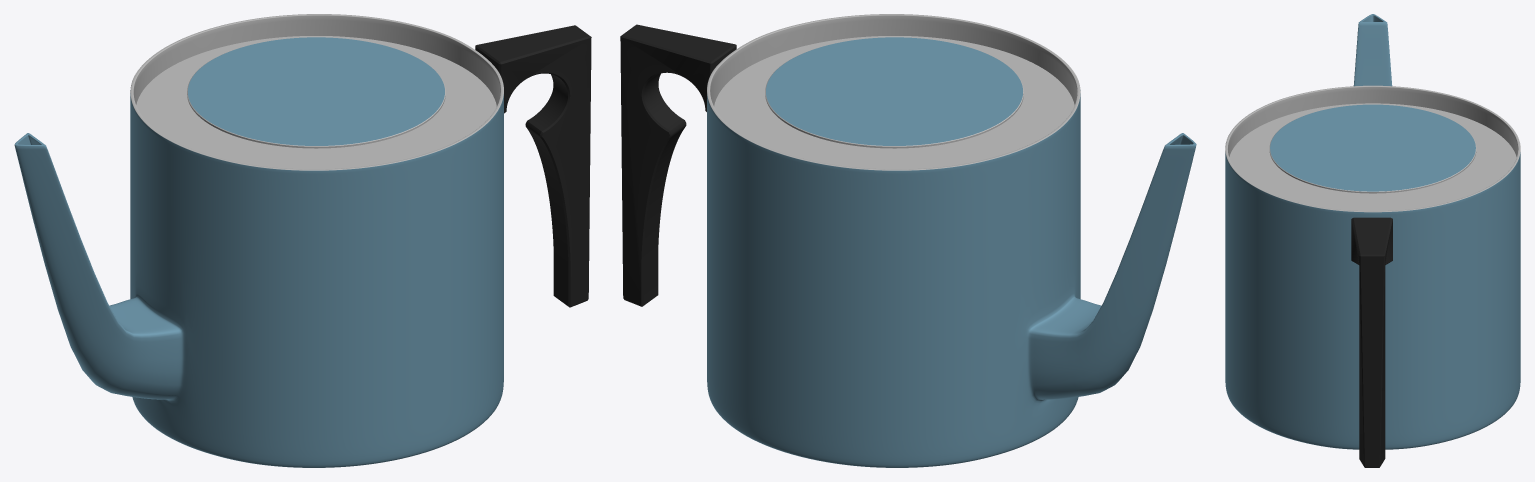
File: cgt_Accessory_150_001.glb
3 renders of one model, left to right at view 1: azimuth 30°, elevation 25°; view 2: azimuth 150°, elevation 25°; view 3: azimuth 270°, elevation 25°, orthographic. The views are drawn at different scales.
Visible parts, largest first — view 1: cgt_Accessory_150_001; view 2: cgt_Accessory_150_001; view 3: cgt_Accessory_150_001.
Part boxes in pixels (x1,y1,x2,y2): cgt_Accessory_150_001: (14, 14, 591, 467); cgt_Accessory_150_001: (620, 14, 1196, 467); cgt_Accessory_150_001: (1225, 14, 1520, 467).
Bounding box in the file's own units: 0.2919 × 0.157 × 0.1642.
